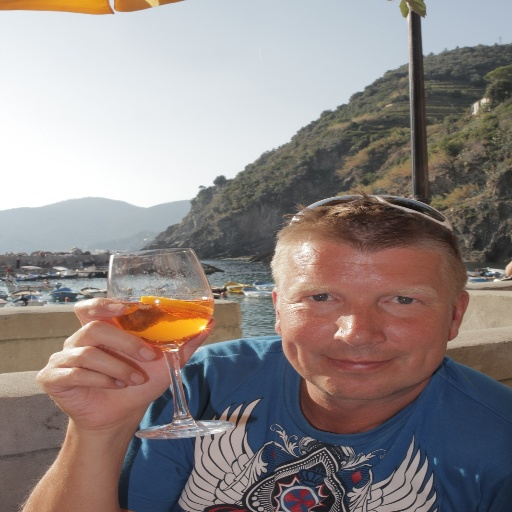hand: (22, 325, 184, 469)
